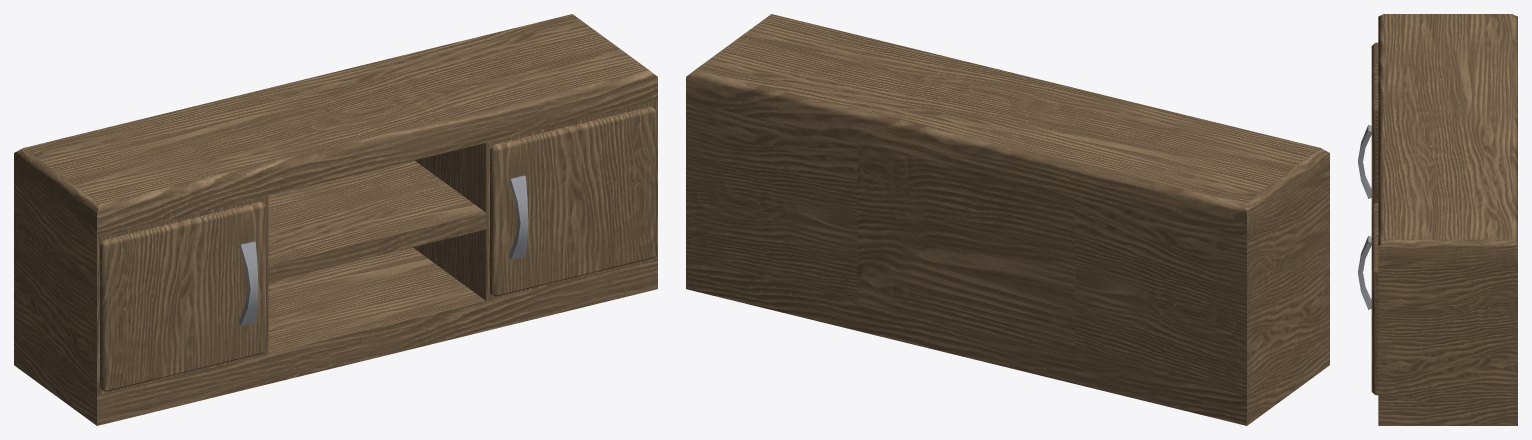
Rendered from wall_cabinet_011.fbx.
The picture shows the model from 3 angles, left to right: view 1: azimuth 30°, elevation 25°; view 2: azimuth 150°, elevation 25°; view 3: azimuth 270°, elevation 25°; orthographic projection. The views are drawn at different scales.
Parts seen in each view (by area): view 1: wall_cabinet_011; view 2: wall_cabinet_011; view 3: wall_cabinet_011.
Part boxes in pixels (left/top/right/bottom): wall_cabinet_011: left=14, top=14, right=657, bottom=425; wall_cabinet_011: left=686, top=14, right=1329, bottom=425; wall_cabinet_011: left=1358, top=14, right=1517, bottom=425.
Size of the model in its own units: 208 by 60.85 by 77.17.
